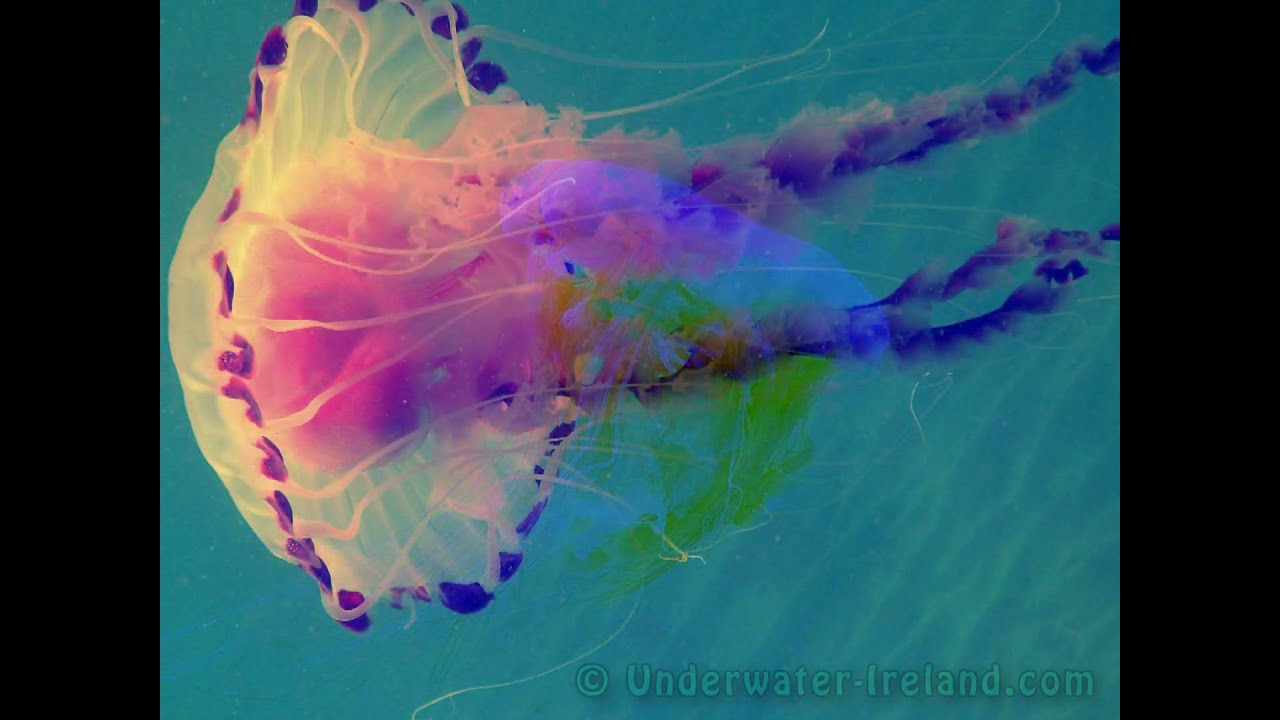jellyfish: (165, 21, 1102, 626)
